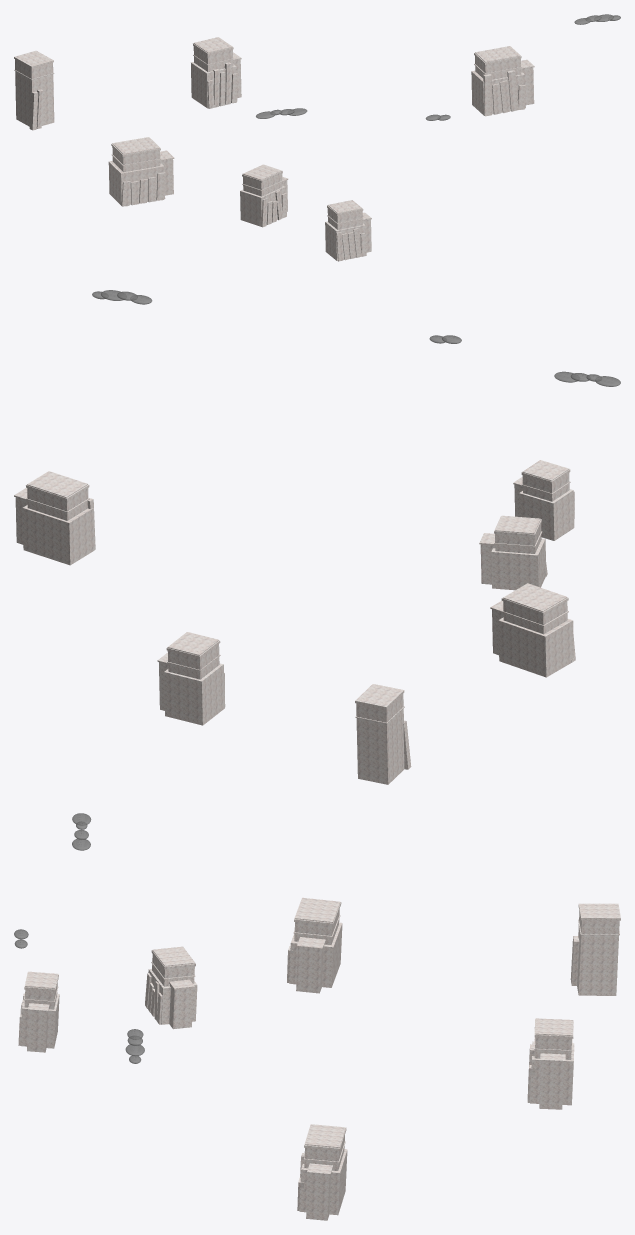
The model's file is HighwireHorizon_11.obj.
3 views of the same model, one above another, from view 1: azimuth 30°, elevation 25°; view 2: azimuth 150°, elevation 25°; view 3: azimuth 270°, elevation 25° (orthographic). The views are drawn at different scales.
Parts seen in each view (by area): view 1: Box00216, Box00121, Box00122, Box00120, Box00123, Box00212, Box00213, Box00124, Box00214, Box00211, Box00411, Box00215 (+5 smaller); view 2: Box00216, Box00121, Box00122, Box00123, Box00120, Box00124, Box00212, Box00213, Box00214, Box00411, Box00412, Box00215 (+4 smaller); view 3: Box00216, Box00121, Box01410, Box01412, Box01411, Box00122, Box00123, Box0149, Box00411, Box01413, Box00124, Box00412 (+8 smaller).
Boxes of the visible parts, <box> form: Box00216: <box>15,59,54,126</box>; Box00121: <box>108,161,165,204</box>; Box00122: <box>471,70,525,115</box>; Box00120: <box>240,186,285,225</box>; Box00123: <box>191,62,237,108</box>; Box00212: <box>112,147,160,172</box>; Box00213: <box>475,56,521,79</box>; Box00124: <box>325,221,365,260</box>; Box00214: <box>193,46,233,72</box>; Box00211: <box>243,173,282,196</box>; Box00411: <box>112,137,159,154</box>; Box00215: <box>327,208,362,229</box>; Box00216: <box>356,694,404,784</box>; Box00121: <box>498,617,573,677</box>; Box00122: <box>22,505,94,565</box>; Box00123: <box>164,663,224,725</box>; Box00120: <box>491,538,545,590</box>; Box00124: <box>519,489,574,540</box>; Box00212: <box>503,601,567,634</box>; Box00213: <box>27,488,88,520</box>; Box00214: <box>167,644,219,679</box>; Box00411: <box>503,583,567,611</box>; Box00412: <box>27,471,87,497</box>; Box00215: <box>522,473,569,501</box>; Box00216: <box>577,911,619,995</box>; Box00121: <box>289,922,342,987</box>; Box01410: <box>296,946,323,993</box>; Box01412: <box>539,1061,564,1109</box>; Box01411: <box>306,1173,331,1220</box>; Box00122: <box>299,1149,347,1215</box>; Box00123: <box>530,1041,574,1105</box>; Box0149: <box>169,985,193,1029</box>; Box00411: <box>295,897,340,922</box>; Box01413: <box>27,1011,48,1052</box>; Box00124: <box>20,993,59,1048</box>; Box00412: <box>305,1124,345,1147</box>.
Bounding box in the file's own units: 499 × 169 × 474.
5 materials, 5 textured.
